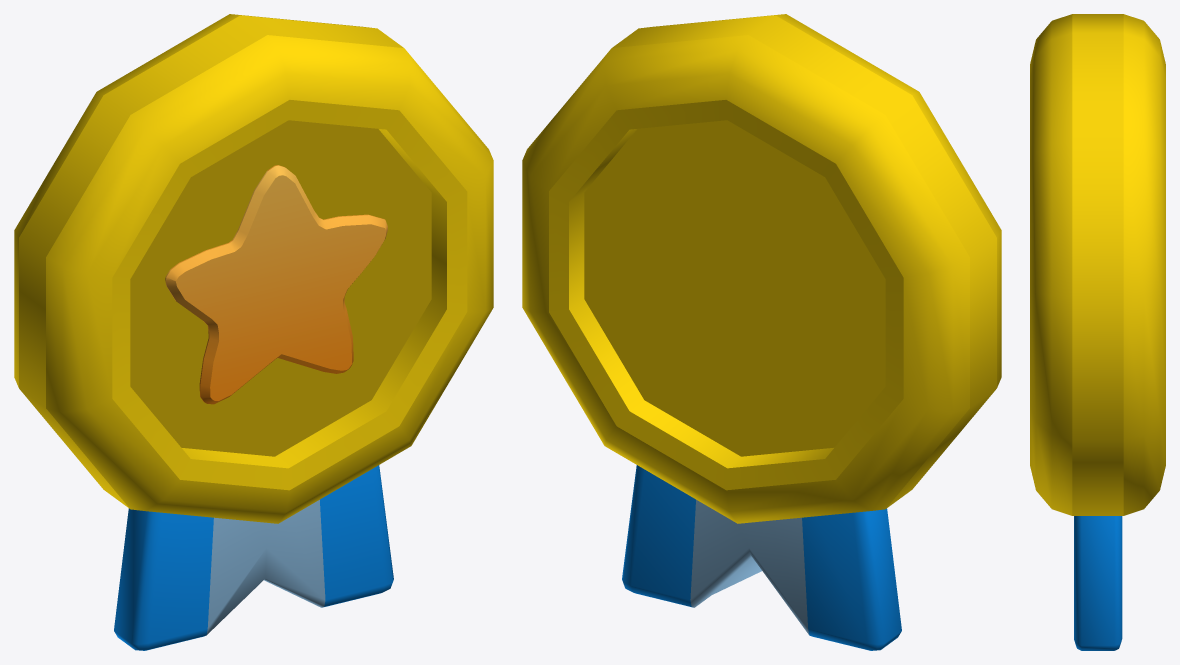
File: Medal_8.fbx
The picture shows the model from 3 angles, left to right: view 1: azimuth 30°, elevation 25°; view 2: azimuth 150°, elevation 25°; view 3: azimuth 270°, elevation 25°; orthographic projection. The views are drawn at different scales.
Parts seen in each view (by area): view 1: Medal_8; view 2: Medal_8; view 3: Medal_8.
Boxes of the visible parts, x1,y1,x2,y2 form: Medal_8: (14,14,493,650); Medal_8: (522,14,1001,650); Medal_8: (1030,14,1165,650).
Bounding box in the file's own units: 0.1773 × 0.2259 × 0.0495.
